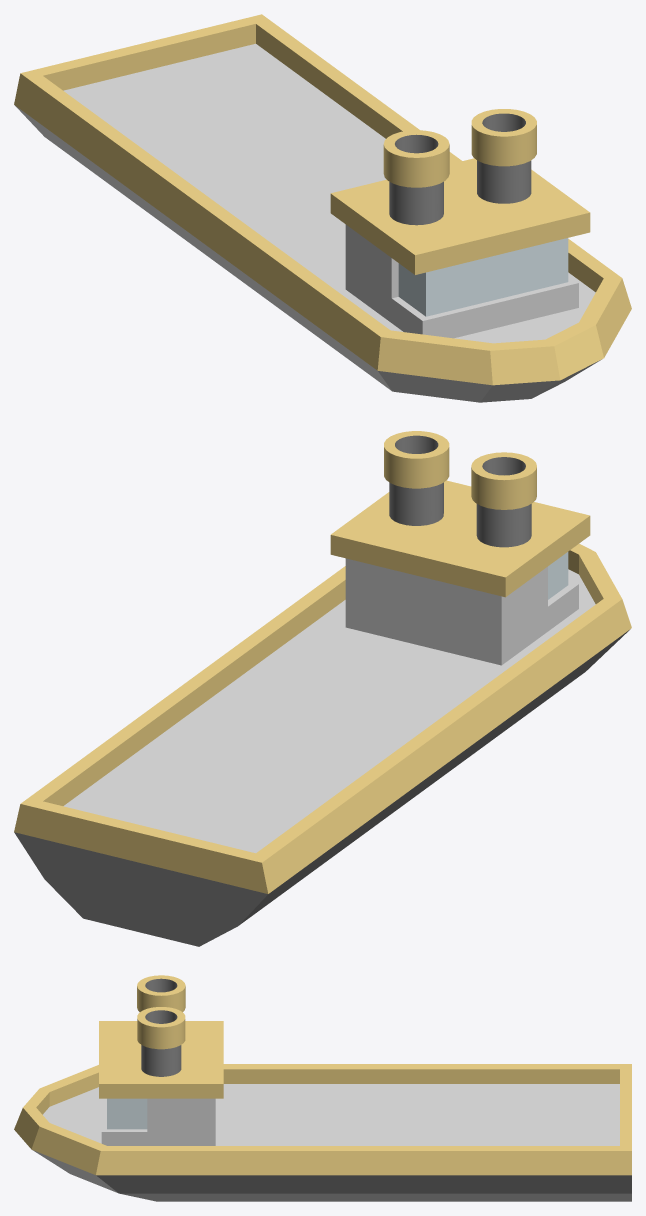
Rendered from watercraftPack_005.glb.
3 views of the same model, one above another, from view 1: azimuth 30°, elevation 25°; view 2: azimuth 150°, elevation 25°; view 3: azimuth 270°, elevation 25° (orthographic). The views are drawn at different scales.
Parts seen in each view (by area): view 1: Mesh1 Group1 Model; view 2: Mesh1 Group1 Model; view 3: Mesh1 Group1 Model.
Boxes of the visible parts, x1,y1,x2,y2 form: Mesh1 Group1 Model: (14, 14, 631, 402); Mesh1 Group1 Model: (14, 431, 631, 946); Mesh1 Group1 Model: (14, 975, 631, 1201).
Size of the model in its own units: 3.69 by 3.38 by 10.55.
